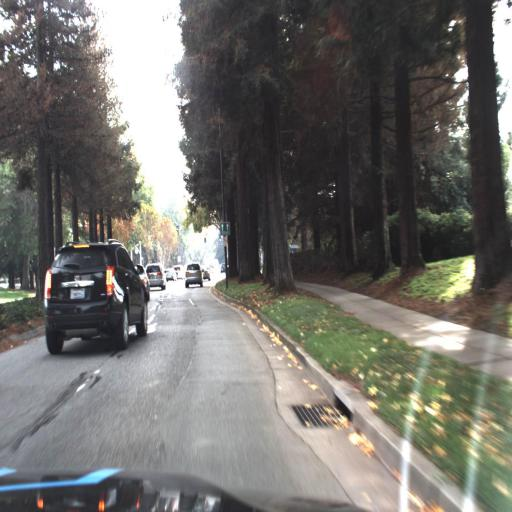car: (42, 237, 148, 356), (184, 258, 203, 288), (202, 259, 212, 286), (220, 260, 230, 276)
